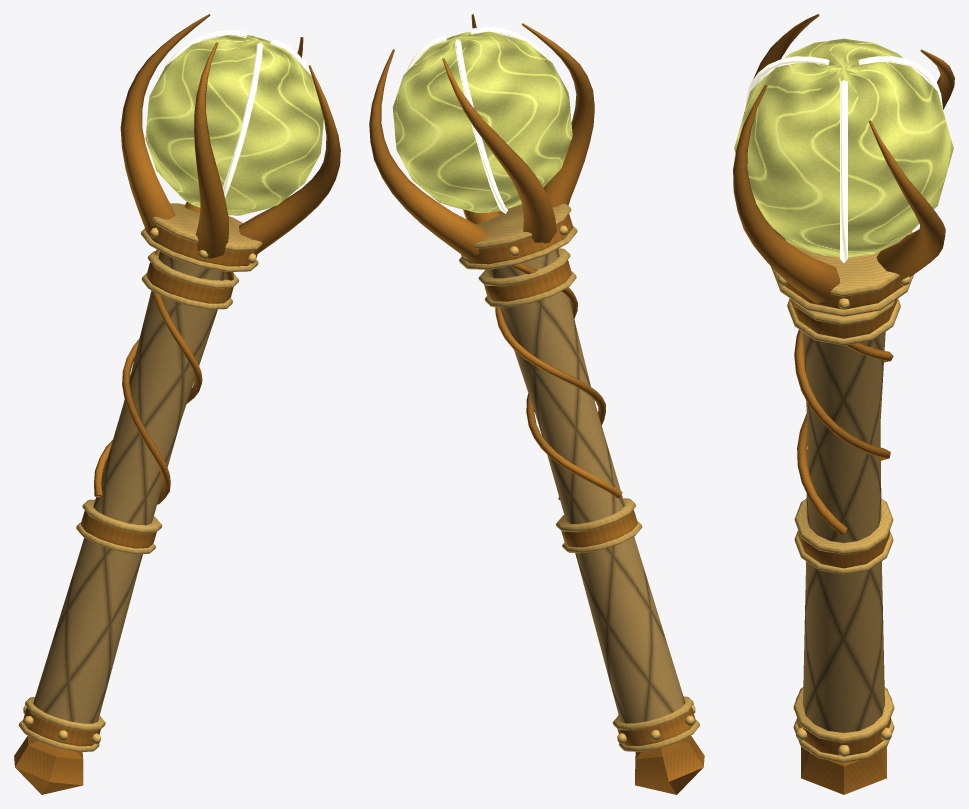
Rendered from light_rod.glb.
3 views of the same model, side by side, from view 1: azimuth 30°, elevation 25°; view 2: azimuth 150°, elevation 25°; view 3: azimuth 270°, elevation 25° (orthographic). The views are drawn at different scales.
Visible parts, largest first — view 1: Wrapped shaft, Luminous focus, Crown talon (×3), Collar edge (×6), Engraved collar (×4), Winding metal inlay (×2), Pommel, Focus surface arc; view 2: Wrapped shaft, Luminous focus, Crown talon (×3), Collar edge (×6), Engraved collar (×4), Winding metal inlay (×2), Pommel, Focus surface arc; view 3: Luminous focus, Wrapped shaft, Crown talon (×4), Collar edge (×8), Engraved collar (×4), Winding metal inlay (×2), Focus surface arc (×3), Pommel.
Part boxes in pixels (x1,y1,x2,y2): Wrapped shaft: [33, 251, 226, 723]; Luminous focus: [145, 35, 323, 215]; Crown talon (×3): [120, 14, 340, 258]; Collar edge (×6): [25, 203, 262, 730]; Engraved collar (×4): [23, 224, 257, 746]; Winding metal inlay (×2): [94, 249, 233, 504]; Pommel: [14, 736, 83, 794]; Focus surface arc: [222, 42, 262, 197]; Wrapped shaft: [486, 249, 685, 723]; Luminous focus: [392, 31, 572, 212]; Crown talon (×3): [369, 23, 594, 259]; Collar edge (×6): [459, 203, 693, 730]; Engraved collar (×4): [461, 214, 695, 745]; Winding metal inlay (×2): [495, 263, 622, 499]; Pommel: [635, 735, 704, 794]; Focus surface arc: [455, 39, 507, 213]; Luminous focus: [734, 38, 953, 257]; Wrapped shaft: [802, 332, 885, 732]; Crown talon (×4): [733, 14, 954, 303]; Collar edge (×8): [770, 231, 913, 762]; Engraved collar (×4): [785, 279, 902, 755]; Winding metal inlay (×2): [794, 329, 893, 535]; Focus surface arc (×3): [744, 56, 942, 262]; Pommel: [801, 746, 886, 794].
Size of the model in its own units: 181 by 408 by 94.57.
5 materials, 4 textured.
